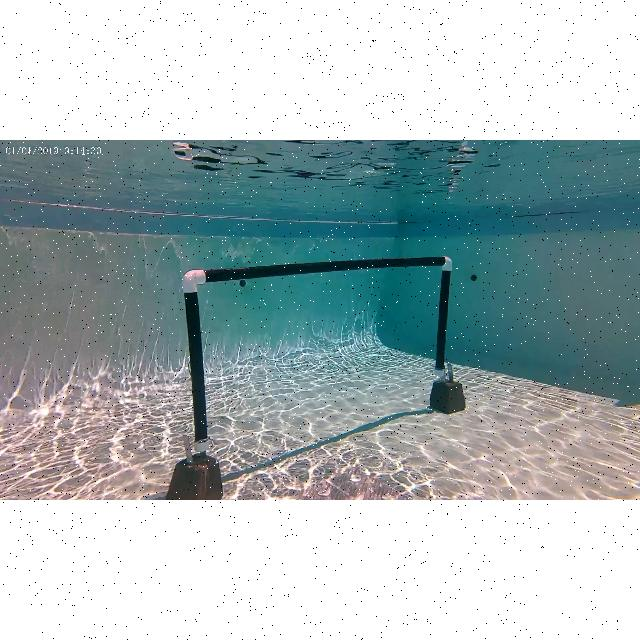prequal gate: (186, 254, 450, 452)
prequal gate leg l: (168, 264, 228, 500)
prequal gate leg r: (430, 253, 470, 415)
